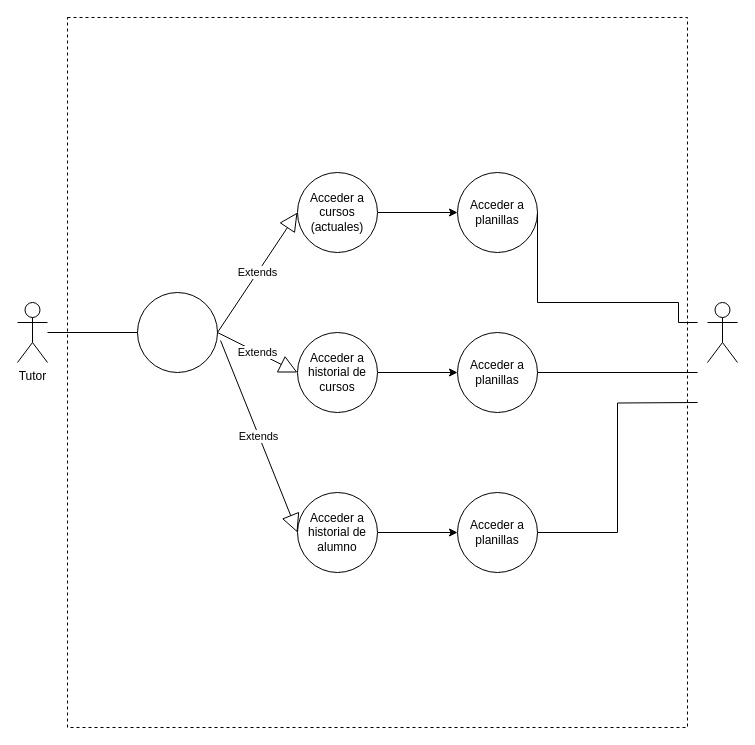
Image size: 755x745. Some labels were removed from this diagram. The centre of each missing label's shape, as x and y in pixels:
DB: pixel 722 332
Log in: pixel 177 332
